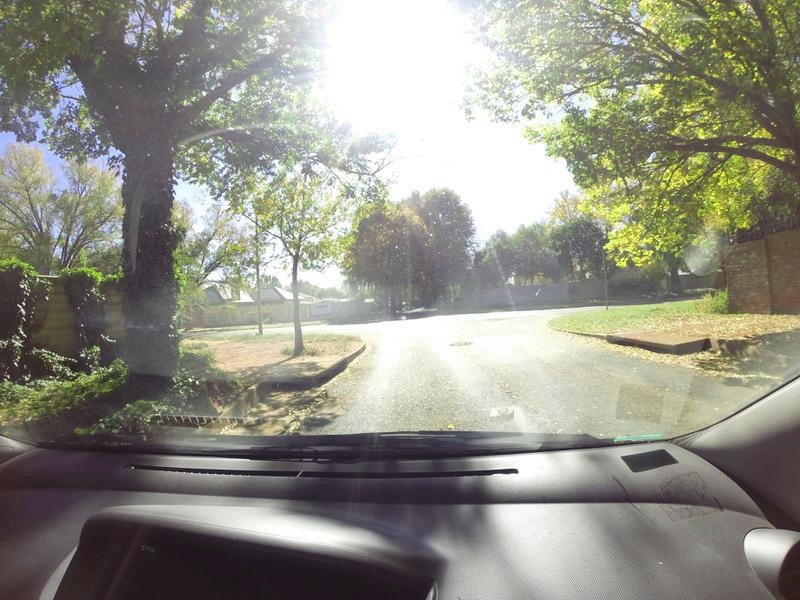pothole: (449, 339, 476, 348)
